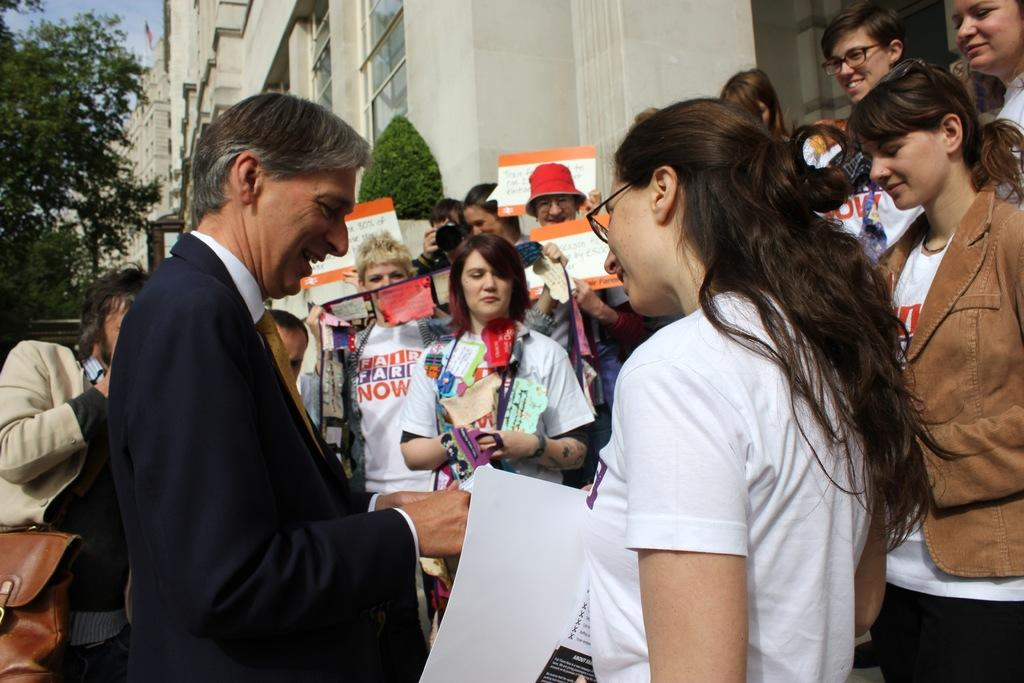Hat: (528, 159, 586, 217)
